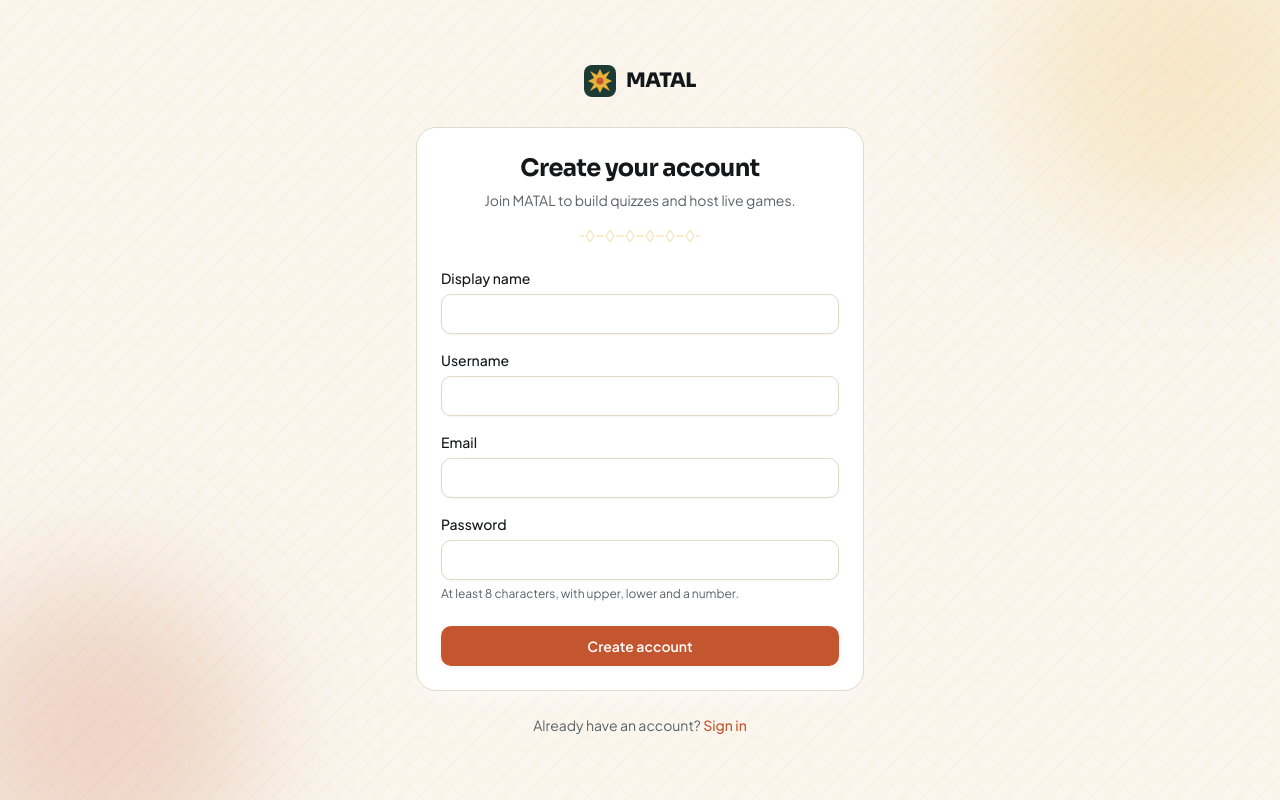
Test: RegisterPage › validates a too-short username as the user types
This screenshot has width=1280, height=800.
Type "ab" into the field labelled "Username".
click(640, 396); type("ab")  # box x1=441 y1=376 x2=839 y2=416
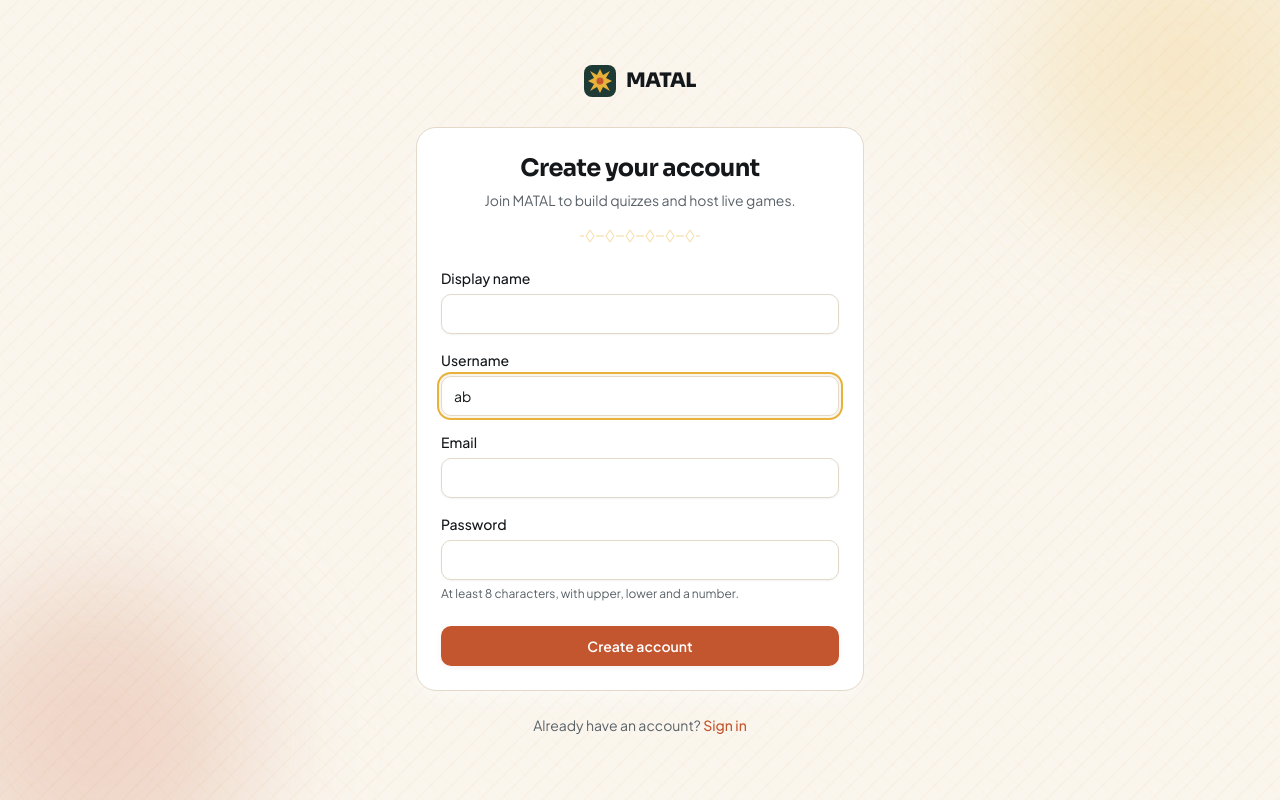
Click the button "Create account".
click(640, 646)  # box x1=441 y1=626 x2=839 y2=666
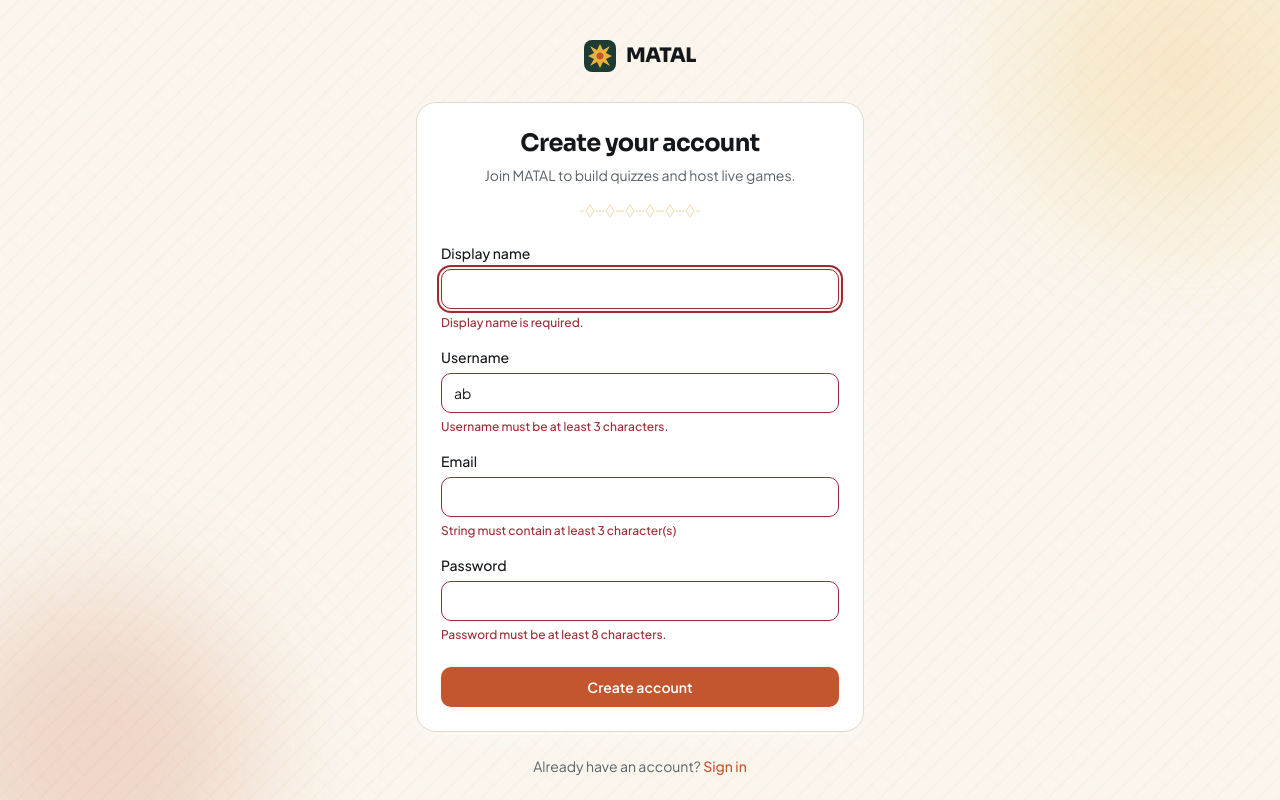
Expected: the text "Username must be at least 3 characters." is shown, x1=441 y1=419 x2=668 y2=434
